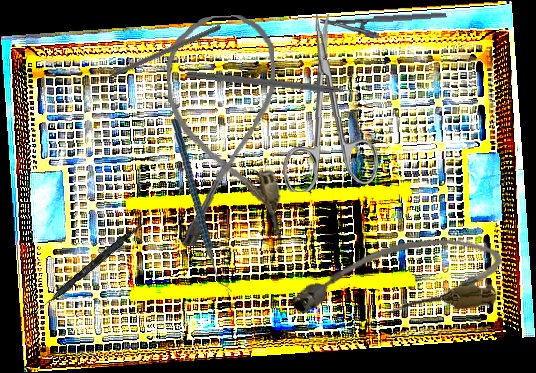Cannula: (164, 13, 284, 247), (286, 231, 507, 327)
Chopper: (160, 119, 244, 292), (184, 70, 370, 107)
Hook Surgical: (84, 23, 223, 90)
Iris Scissors: (277, 12, 380, 193)
Needle Holder: (319, 11, 448, 43)
Spatula Surgical: (27, 214, 150, 323)
